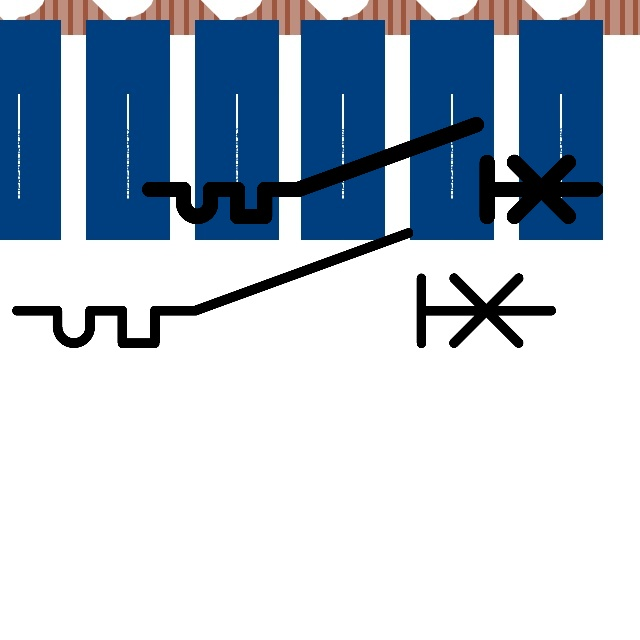interruptor_termomagnetico: (3, 219, 565, 357), (138, 113, 607, 228)
